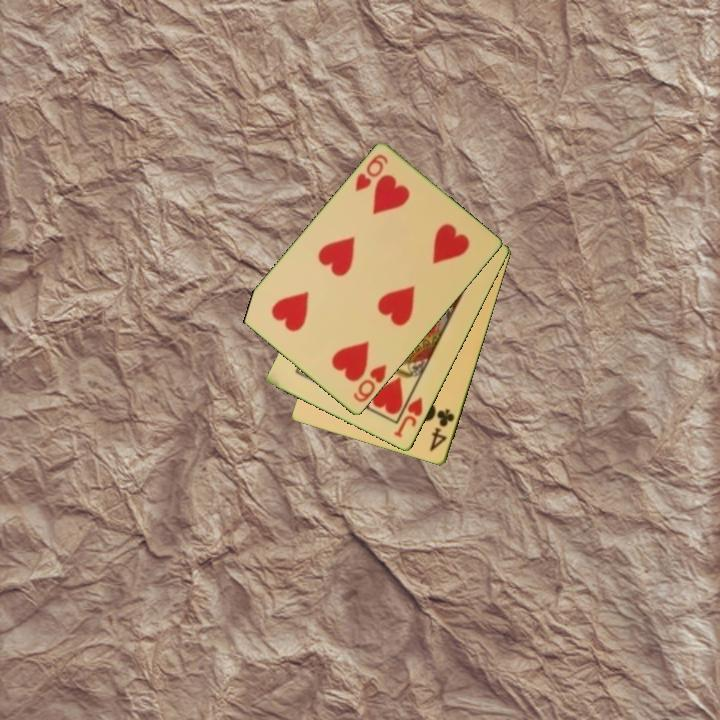4c: (426, 406, 458, 455)
6h: (351, 151, 391, 195), (350, 361, 389, 406)
Jh: (390, 386, 426, 441)
